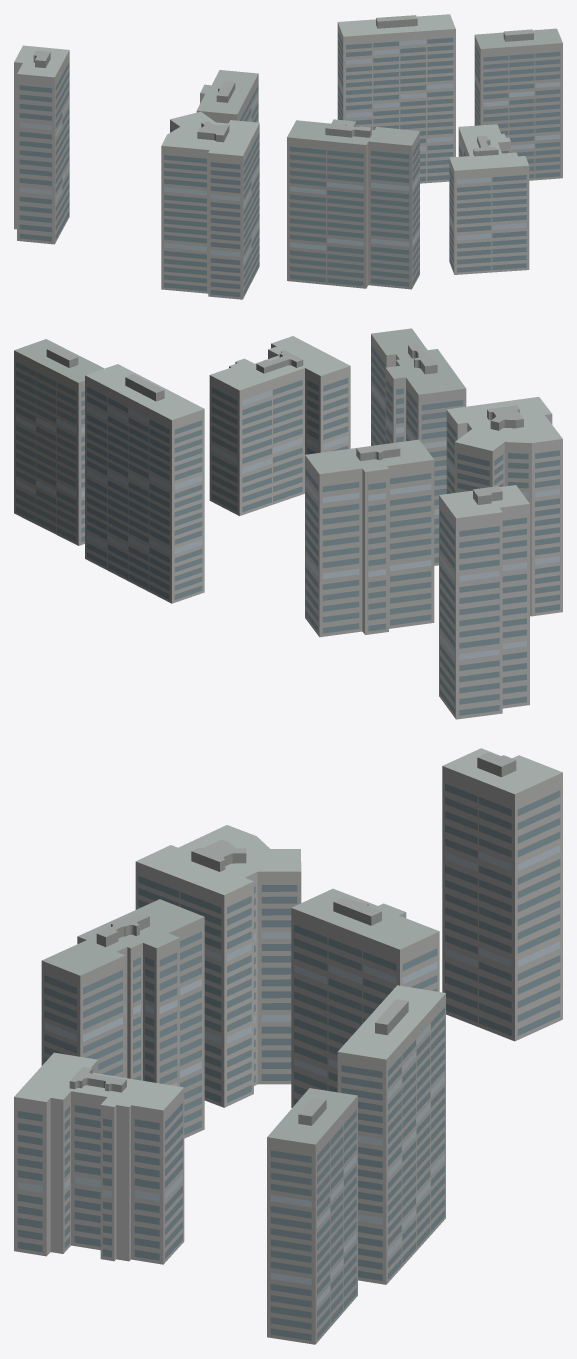
File: apt-a12179005.glb
3 views of the same model, one above another, from view 1: azimuth 30°, elevation 25°; view 2: azimuth 150°, elevation 25°; view 3: azimuth 270°, elevation 25° (orthographic). The views are drawn at different scales.
Parts seen in each view (by area): view 1: apt-a12179005; view 2: apt-a12179005; view 3: apt-a12179005.
Boxes of the visible parts, <box> form: apt-a12179005: <box>14,14,562,299</box>; apt-a12179005: <box>14,328,562,719</box>; apt-a12179005: <box>14,748,562,1344</box>.
Bounding box in the file's own units: 172 × 59 × 114.
